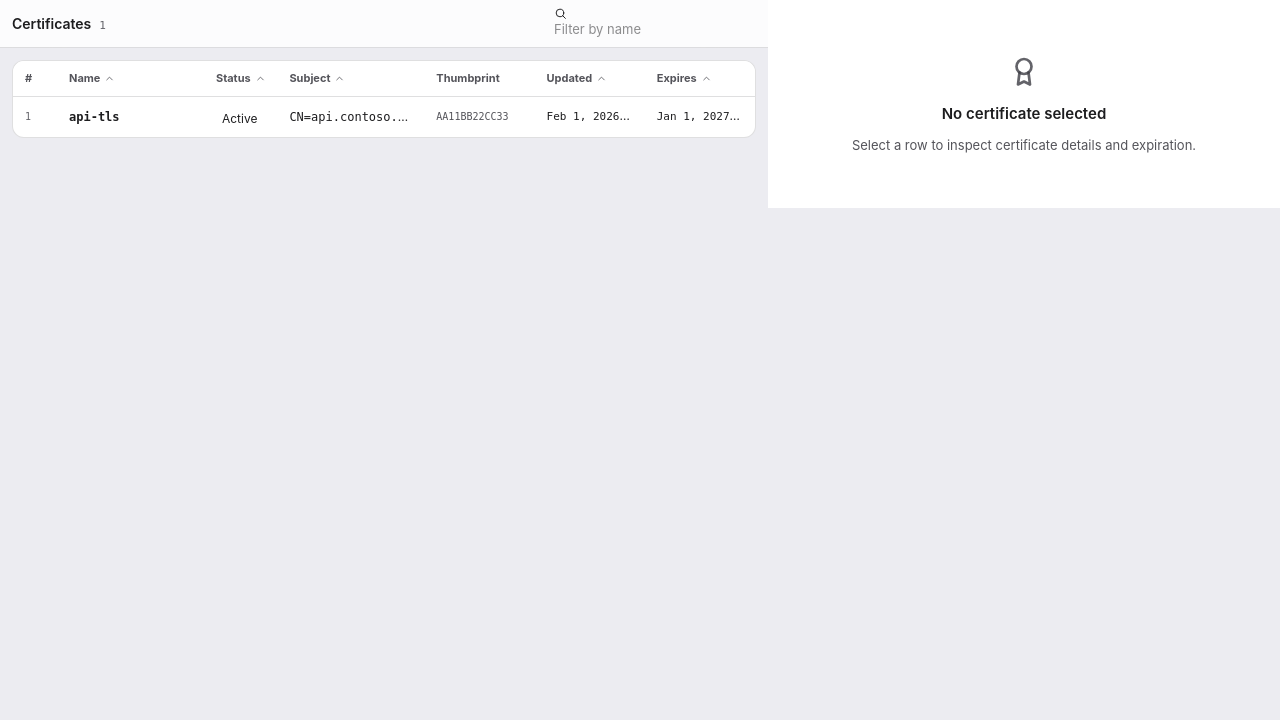
Test: CertificatesList › opens the detail pane for the clicked certificate
This screenshot has width=1280, height=720.
Click the text "api-tls".
click(94, 117)  # box [69,110,120,124]
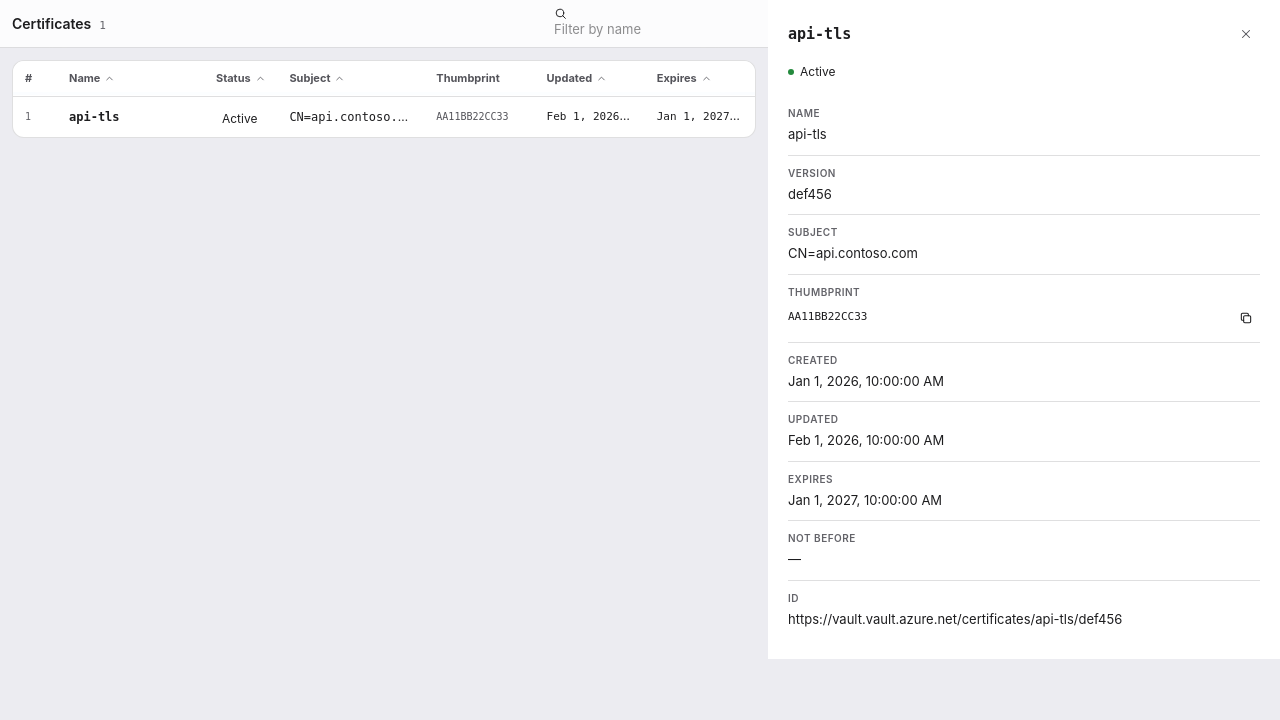
Now the text "def456" is shown, box [788,186,832,202]
